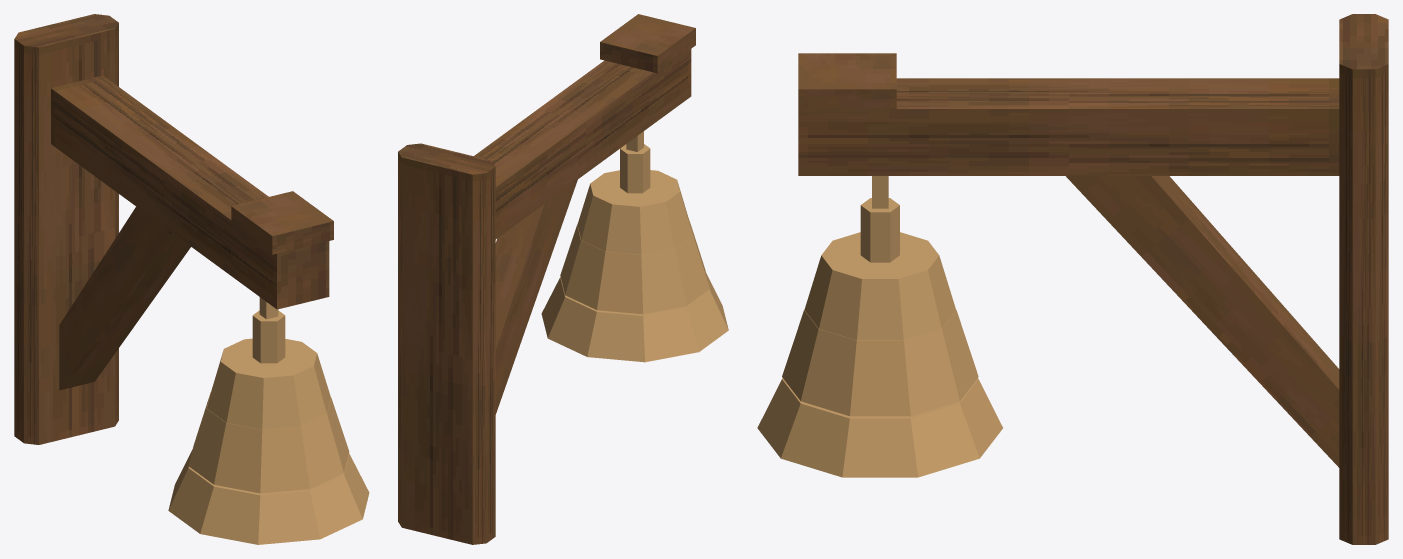
File: door_bell.glb
3 renders of one model, left to right at view 1: azimuth 30°, elevation 25°; view 2: azimuth 150°, elevation 25°; view 3: azimuth 270°, elevation 25°, orthographic. The views are drawn at different scales.
Visible parts, largest first — view 1: door_bell, bell; view 2: door_bell, bell; view 3: door_bell, bell.
Boxes of the visible parts, left/top/right/bottom form: door_bell: left=14, top=14, right=333, bottom=444; bell: left=168, top=297, right=369, bottom=544; door_bell: left=398, top=14, right=695, bottom=544; bell: left=541, top=131, right=728, bottom=362; door_bell: left=798, top=14, right=1388, bottom=544; bell: left=757, top=176, right=1002, bottom=477.
Size of the model in its own units: 0.1427 by 0.32 by 0.385.
2 materials, 1 textured.
